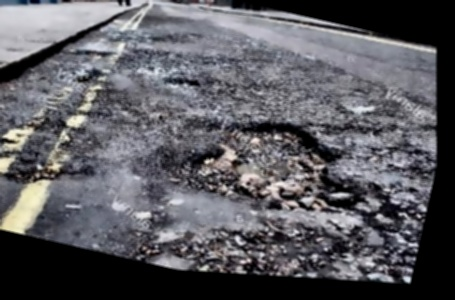pothole: (146, 79, 388, 249), (165, 71, 204, 94)
